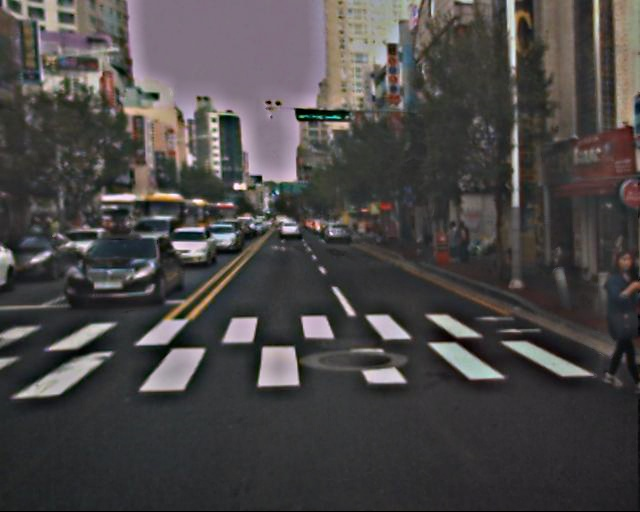person: (582, 251, 640, 393), (546, 245, 575, 283), (457, 223, 475, 268), (445, 222, 462, 264), (420, 219, 432, 249), (408, 218, 417, 241)
